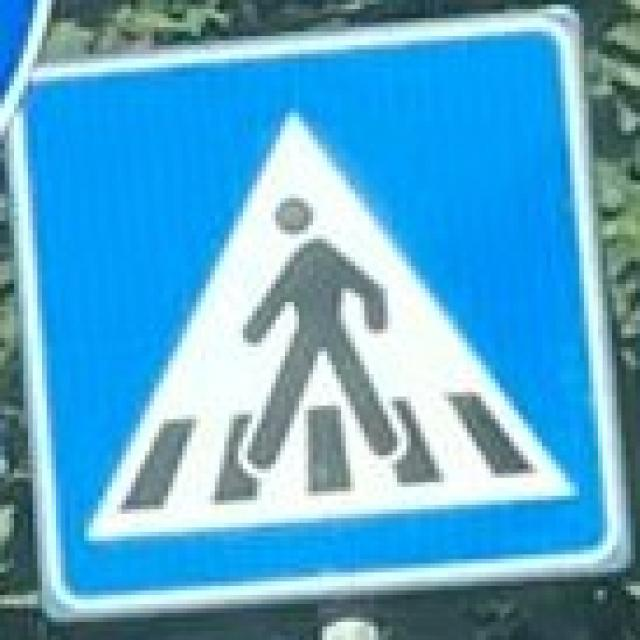info_crosswalk: (8, 9, 640, 614)
